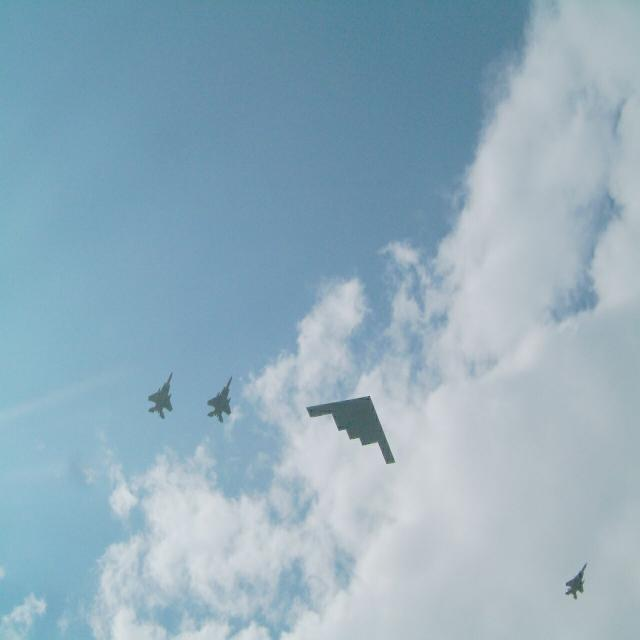MIL_Plane: (306, 395, 396, 465), (207, 376, 233, 423), (148, 372, 173, 419), (565, 562, 587, 599)
